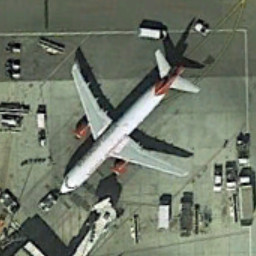Airplane: (47, 36, 209, 208)
